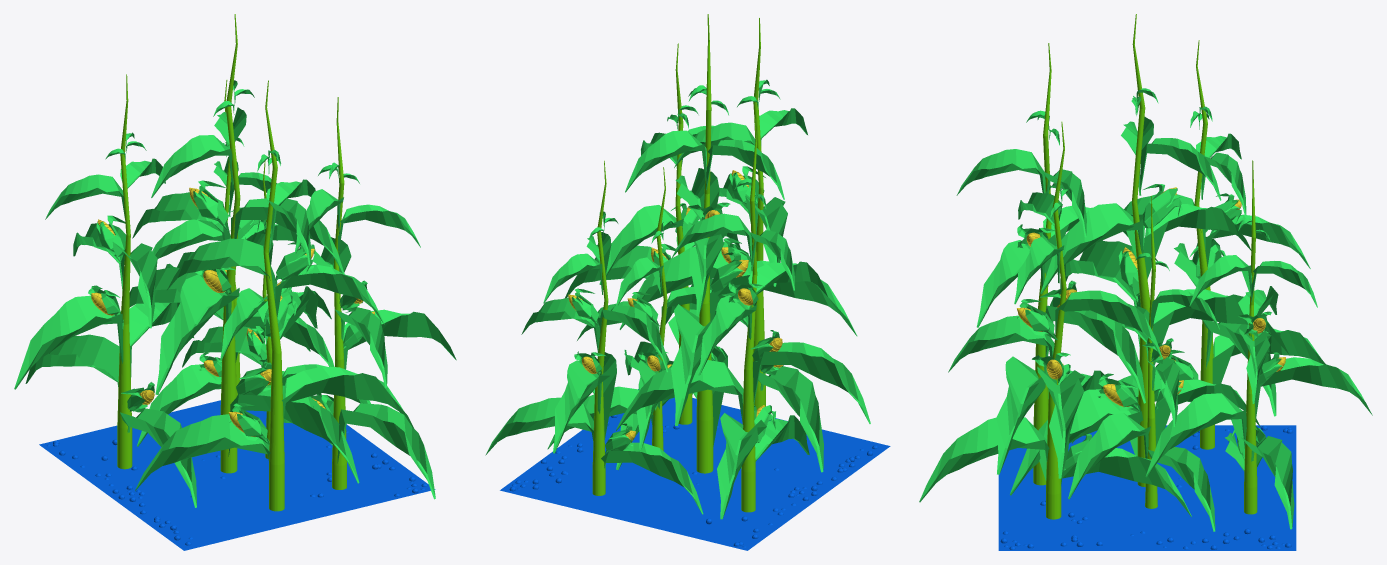
The model's file is Corn.fbx.
3 renders of one model, left to right at view 1: azimuth 30°, elevation 25°; view 2: azimuth 150°, elevation 25°; view 3: azimuth 270°, elevation 25°, orthographic. The views are drawn at different scales.
Parts seen in each view (by area): view 1: Plane.072; view 2: Plane.072; view 3: Plane.072.
Part boxes in pixels (x1,y1,x2,y2): Plane.072: (14, 14, 456, 550); Plane.072: (485, 14, 890, 550); Plane.072: (919, 14, 1372, 550).
Size of the model in its own units: 152 by 150 by 174.
